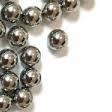ironball: (20, 5, 45, 28), (19, 44, 42, 67), (44, 29, 69, 50), (10, 88, 33, 108), (20, 68, 42, 88), (7, 26, 29, 46), (0, 70, 19, 92), (0, 47, 20, 67), (42, 4, 63, 21), (0, 3, 21, 20), (0, 87, 14, 111), (59, 0, 82, 13), (0, 17, 9, 40)
